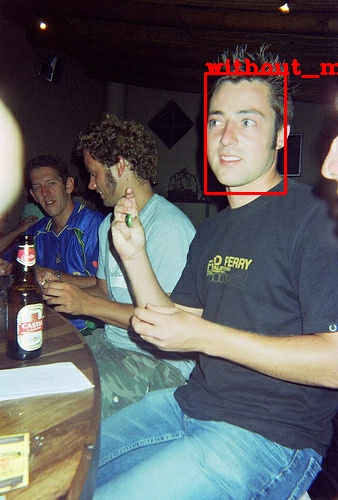without_mask: (199, 64, 306, 202), (79, 143, 161, 220), (16, 158, 79, 225)
